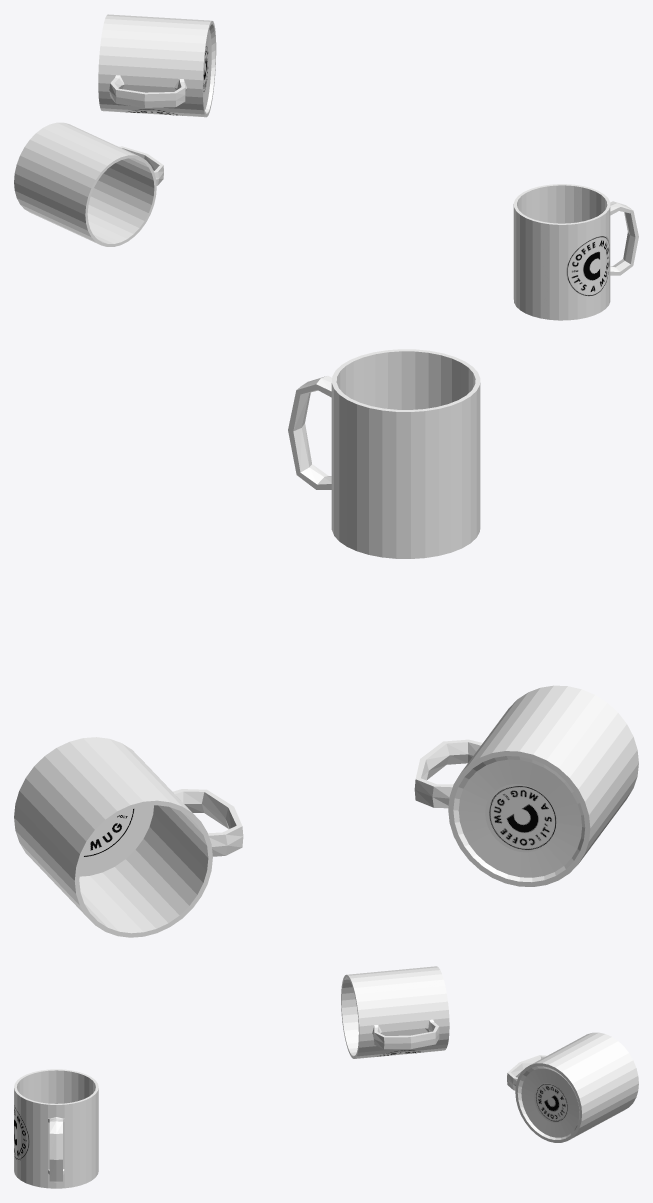
The model's file is Coffe-Mug.glb.
3 views of the same model, one above another, from view 1: azimuth 30°, elevation 25°; view 2: azimuth 150°, elevation 25°; view 3: azimuth 270°, elevation 25° (orthographic). The views are drawn at different scales.
Bounding box in the file's own units: 2.31 × 0.5252 × 3.51.
Materials: 1 (1 with a texture image).
